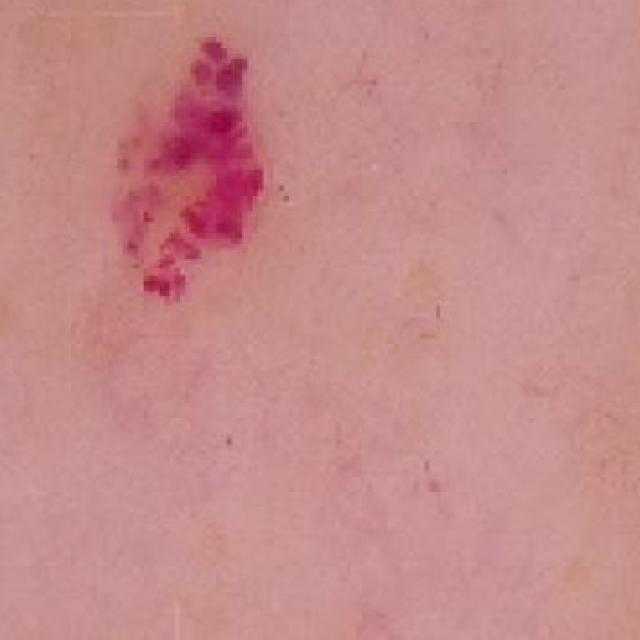VASC: (109, 0, 353, 324)
